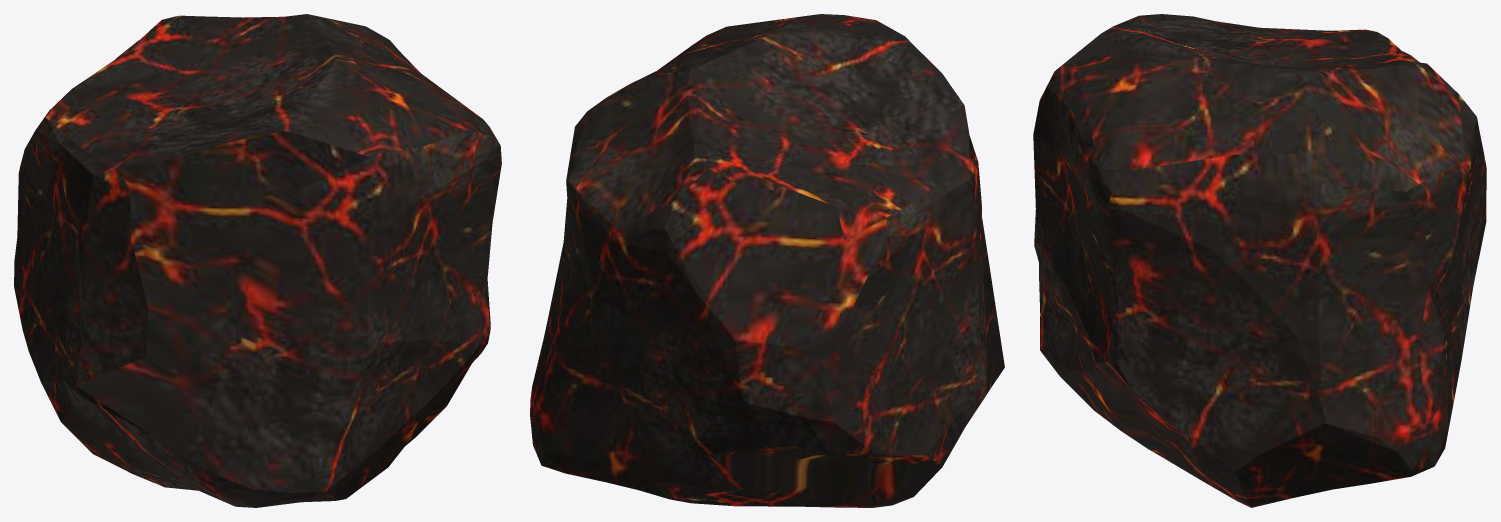
Rendered from rocker.fbx.
The picture shows the model from 3 angles, left to right: view 1: azimuth 30°, elevation 25°; view 2: azimuth 150°, elevation 25°; view 3: azimuth 270°, elevation 25°; orthographic projection. The views are drawn at different scales.
Visible parts, largest first — view 1: Metor; view 2: Metor; view 3: Metor.
Boxes of the visible parts, x1,y1,x2,y2 form: Metor: (14, 14, 501, 507); Metor: (530, 14, 1004, 507); Metor: (1033, 14, 1486, 507).
Bounding box in the file's own units: 2.85 × 2.98 × 2.88.
